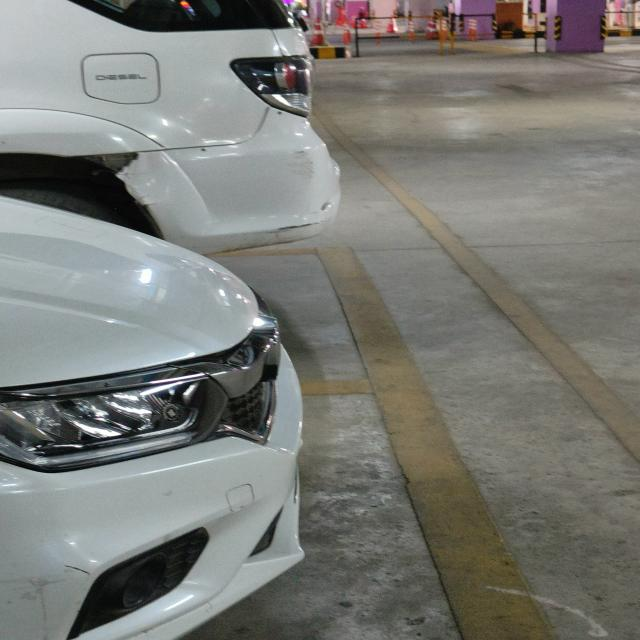scratch: (58, 556, 93, 580)
